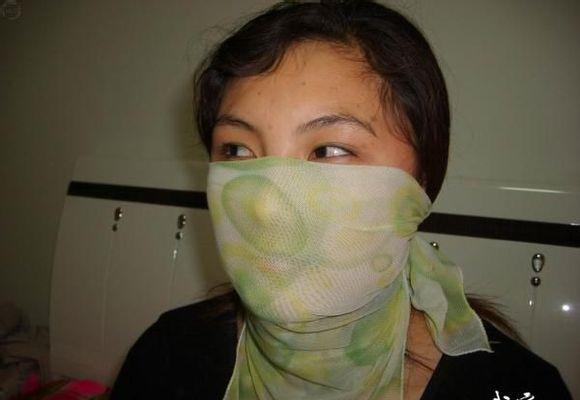OK: (207, 108, 400, 301)
